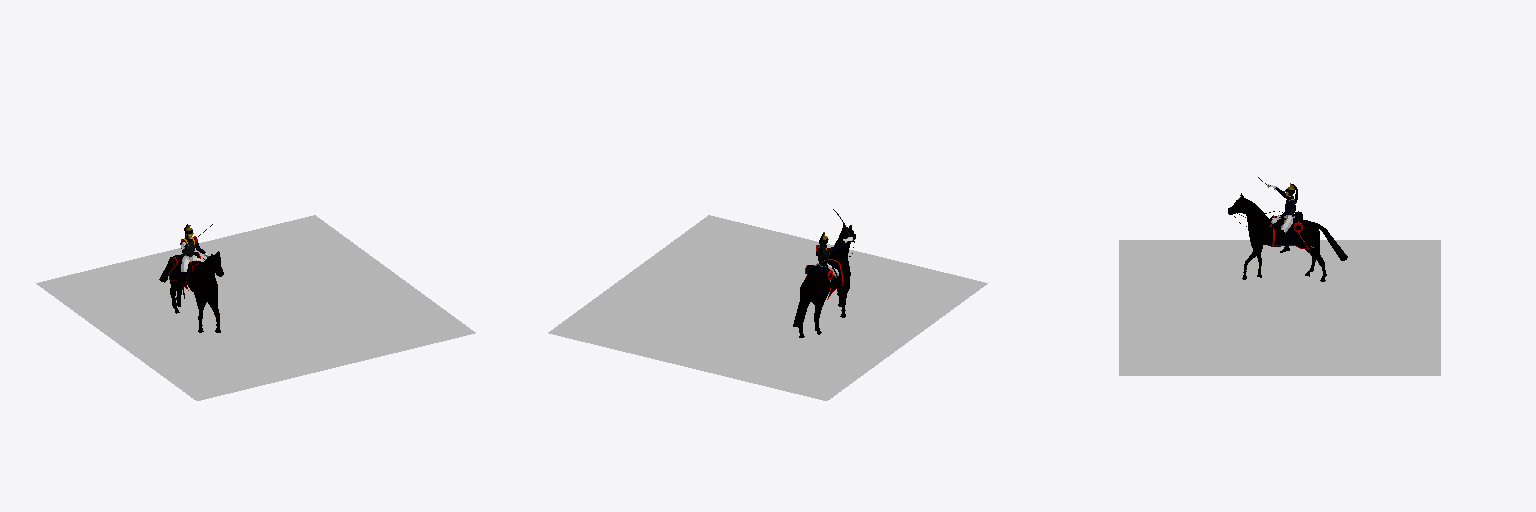
File: CUIRASSIER_a_vendre.obj
The picture shows the model from 3 angles: view 1: azimuth 30°, elevation 25°; view 2: azimuth 150°, elevation 25°; view 3: azimuth 270°, elevation 25°; orthographic projection.
Parts seen in each view (by area): view 1: Plane.003_Plane.004, HORSE_Cylinder.004; view 2: Plane.003_Plane.004, HORSE_Cylinder.004; view 3: Plane.003_Plane.004, HORSE_Cylinder.004, SELLE_1_Cylinder.007.
Part boxes in pixels (left/top/right/bottom): Plane.003_Plane.004: left=36, top=215, right=475, bottom=400; HORSE_Cylinder.004: left=159, top=251, right=223, bottom=332; Plane.003_Plane.004: left=548, top=215, right=987, bottom=400; HORSE_Cylinder.004: left=793, top=224, right=855, bottom=337; Plane.003_Plane.004: left=1119, top=240, right=1440, bottom=375; HORSE_Cylinder.004: left=1228, top=193, right=1347, bottom=281; SELLE_1_Cylinder.007: left=1269, top=211, right=1308, bottom=249.
Size of the model in its own units: 39.74 by 14.41 by 39.74.